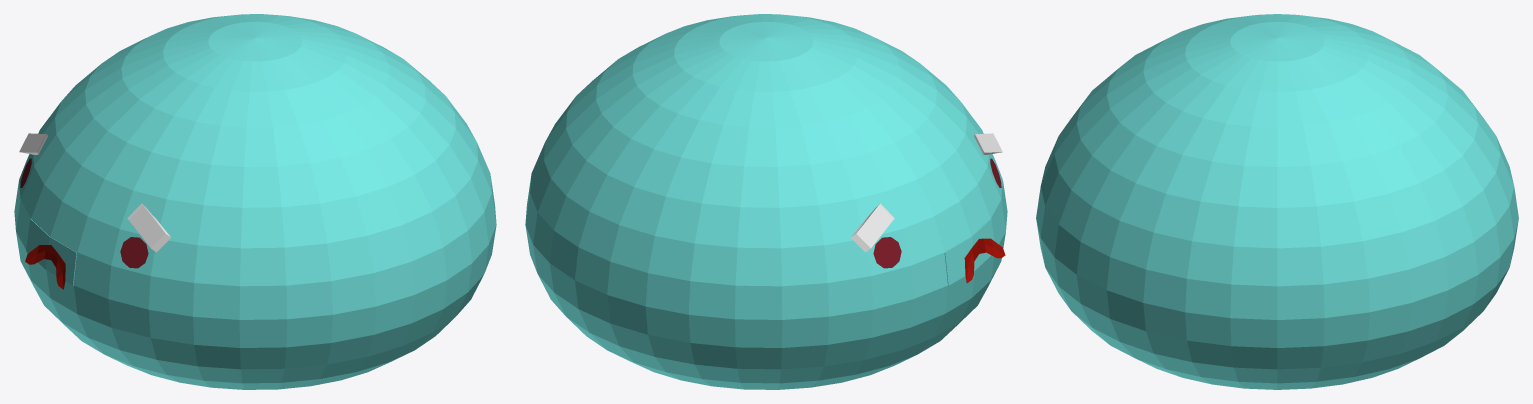
Rendered from SlimeEnemy(Blue).fbx.
3 views of the same model, side by side, from view 1: azimuth 30°, elevation 25°; view 2: azimuth 150°, elevation 25°; view 3: azimuth 270°, elevation 25° (orthographic).
Parts seen in each view (by area): view 1: Sphere, Cube, Circle, Sphere.001; view 2: Sphere, Cube, Circle, Sphere.001; view 3: Sphere.
Boxes of the visible parts, left/top/right/bottom form: Sphere: left=14, top=14, right=496, bottom=389; Cube: left=19, top=133, right=171, bottom=252; Circle: left=20, top=158, right=148, bottom=268; Sphere.001: left=25, top=245, right=65, bottom=289; Sphere: left=525, top=14, right=1007, bottom=389; Cube: left=850, top=133, right=1002, bottom=252; Circle: left=873, top=158, right=1001, bottom=268; Sphere.001: left=964, top=238, right=1005, bottom=283; Sphere: left=1036, top=14, right=1518, bottom=389.
Size of the model in its own units: 203 by 143 by 200.
